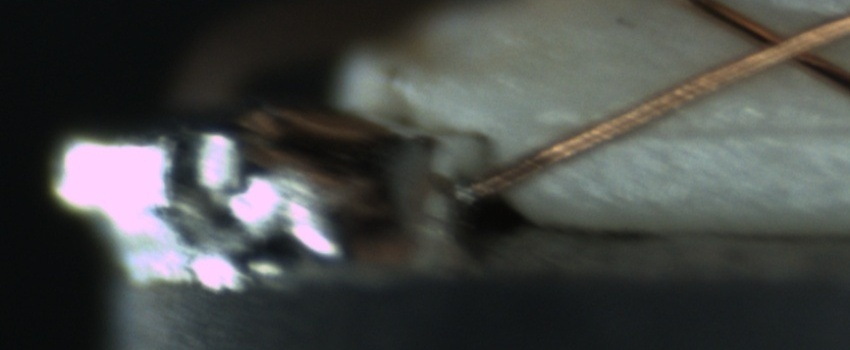CL: (738, 15, 837, 76)
DL: (558, 97, 850, 162)
